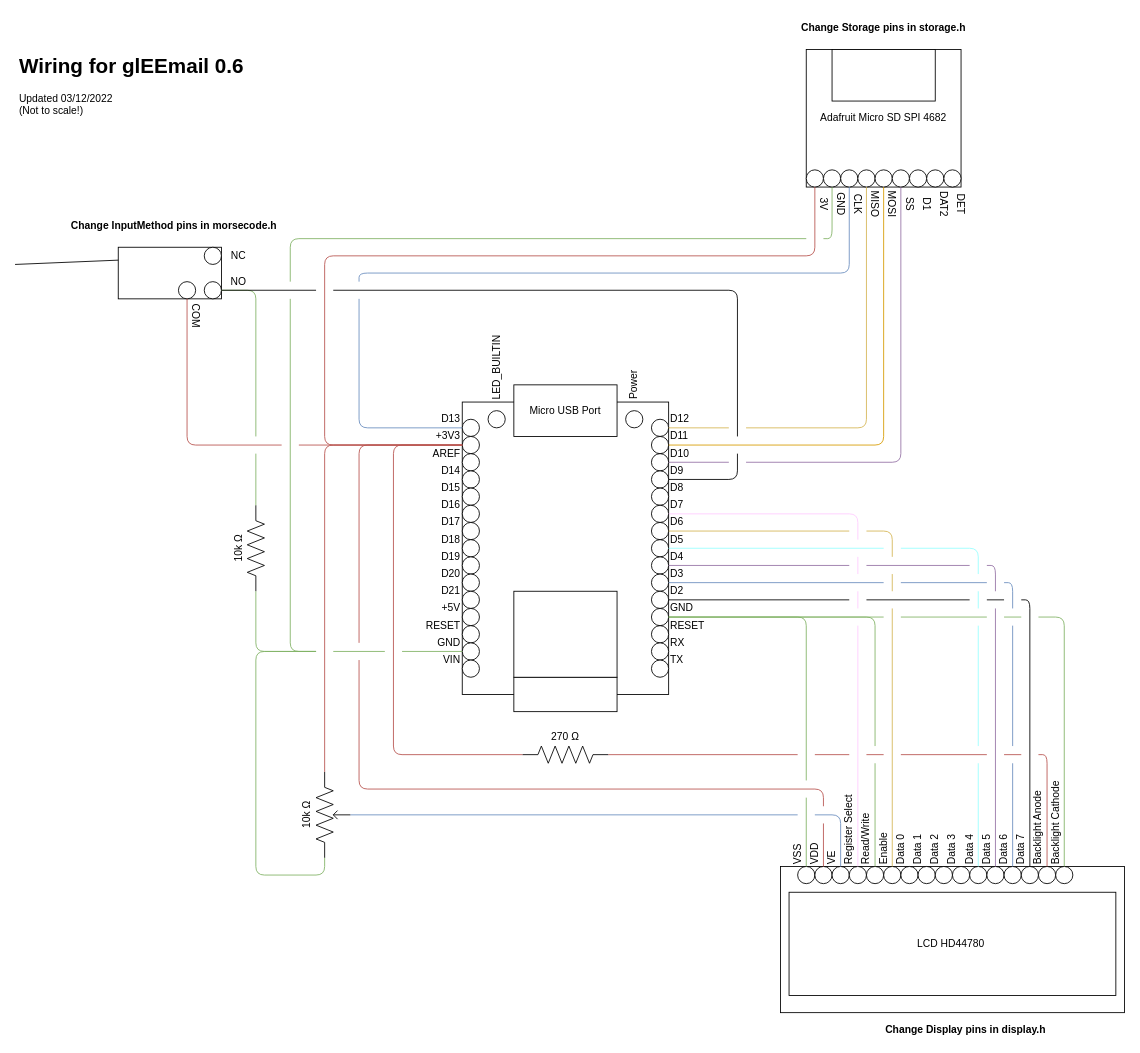
This 1140x1053 diagram has some shape labels left out. The shapes that lost their labels are listed below. From the top down, each one's box as (x1, y1, x2, y2) in pixels, then its label:
(831, 49, 935, 101): MicroSD Slot
(117, 246, 221, 299): 54-410 Switch
(461, 401, 669, 694): Arduino Nano 33 IoT
